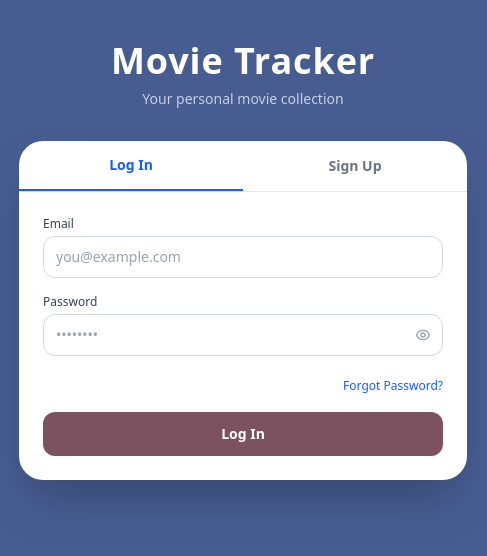
Test: AuthPage › shows error message on failed login
Type "test@example.com" into the field with placeholder "you@example.com" at (243, 256), box 43,236 -> 443,278
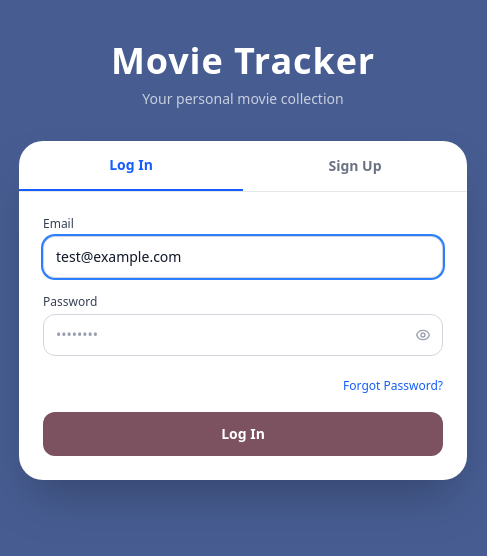
Type "wrongpassword" into the password field with placeholder "••••••••" at (243, 334), box 43,314 -> 443,356
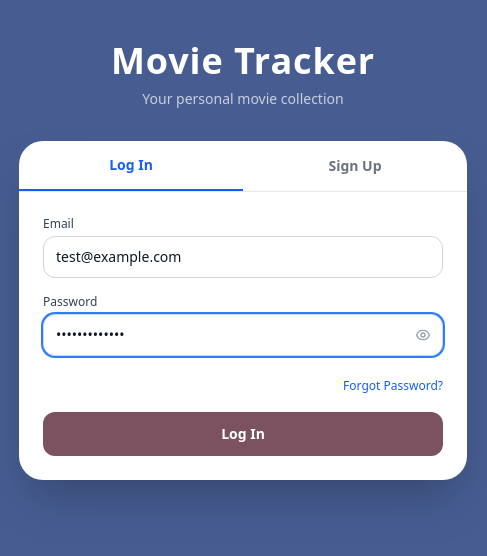
Click the button "Log In" below "Email" at (243, 434), box 43,412 -> 443,456
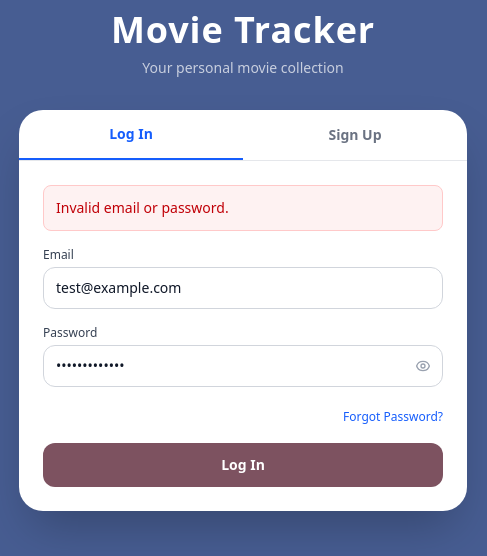
Result: the text "Invalid email or password." is shown at 43,184 -> 443,230
